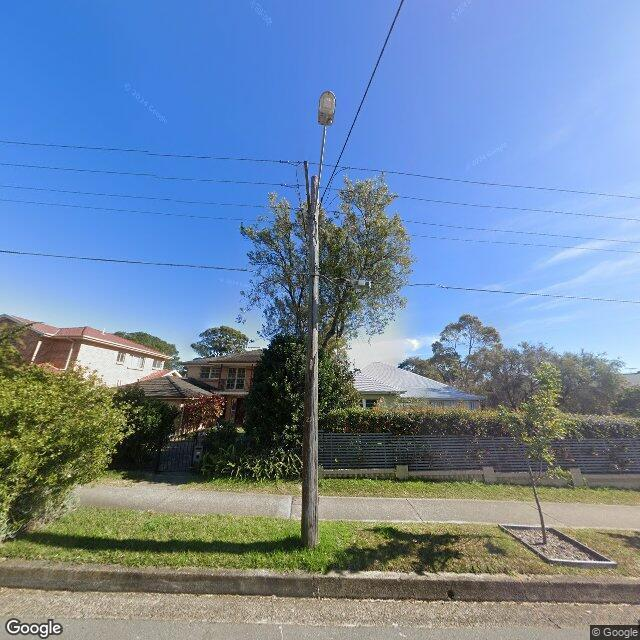crossarm: (303, 160, 313, 216)
streetlight: (312, 89, 337, 222)
timber-pole: (300, 175, 320, 550)
